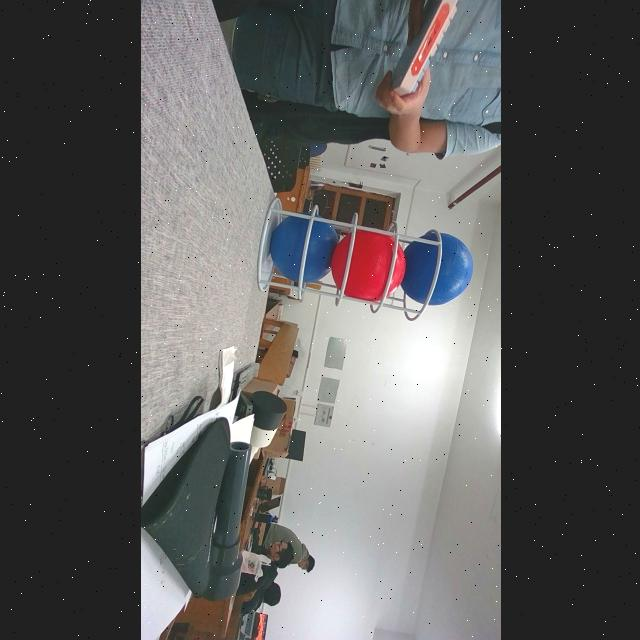B: (396, 232, 472, 306), (267, 212, 337, 282)
R: (330, 228, 406, 302)
S: (255, 196, 440, 320)
